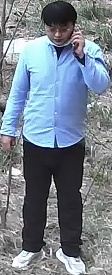phone: (36, 3, 111, 96)
